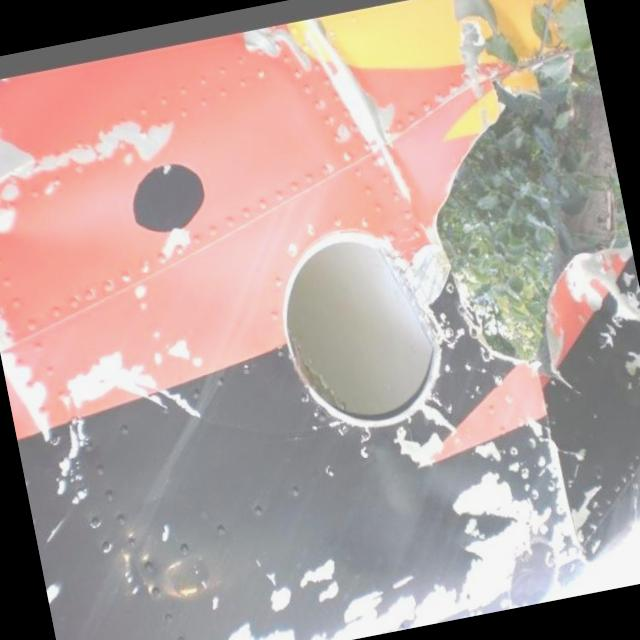dent: (0, 183, 140, 283), (362, 438, 414, 525), (412, 458, 461, 514)
